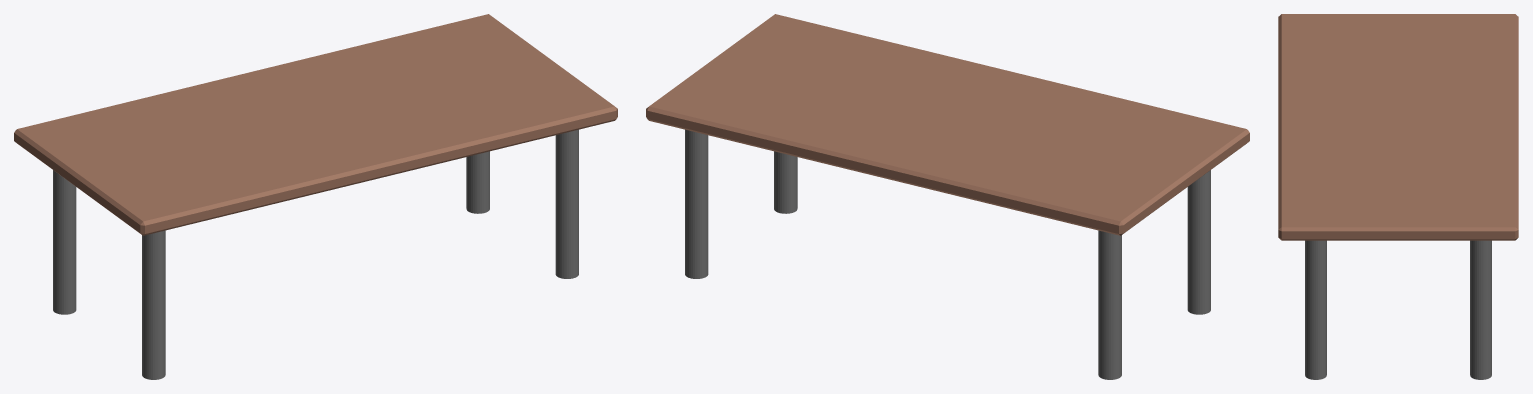
File: Desk.fbx
3 renders of one model, left to right at view 1: azimuth 30°, elevation 25°; view 2: azimuth 150°, elevation 25°; view 3: azimuth 270°, elevation 25°, orthographic. The views are drawn at different scales.
Parts seen in each view (by area): view 1: Desk; view 2: Desk; view 3: Desk.
Boxes of the visible parts, x1,y1,x2,y2 form: Desk: [14, 14, 617, 379]; Desk: [646, 14, 1249, 379]; Desk: [1278, 14, 1518, 379].
Size of the model in its own units: 1108 by 386 by 521.
